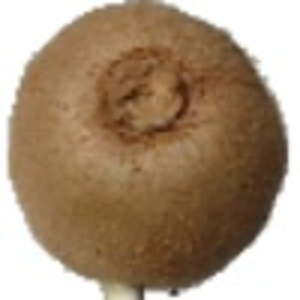kiwi: (6, 1, 290, 300)
